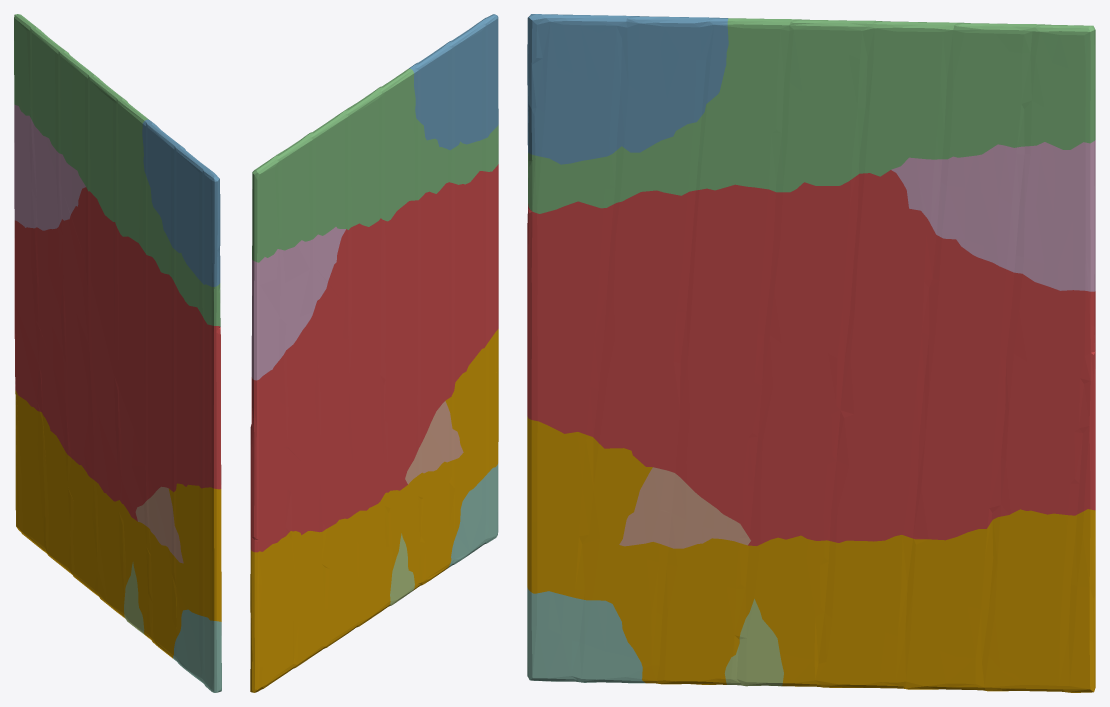
The model's file is fractured_66_8pcs.glb.
The picture shows the model from 3 angles, left to right: view 1: azimuth 30°, elevation 25°; view 2: azimuth 150°, elevation 25°; view 3: azimuth 270°, elevation 25°; orthographic projection. The views are drawn at different scales.
Parts seen in each view (by area): view 1: piece_1.obj, piece_0.obj, piece_3.obj, piece_2.obj, piece_6.obj, piece_4.obj, piece_7.obj, piece_5.obj; view 2: piece_1.obj, piece_0.obj, piece_3.obj, piece_2.obj, piece_6.obj, piece_4.obj, piece_7.obj, piece_5.obj; view 3: piece_1.obj, piece_0.obj, piece_3.obj, piece_2.obj, piece_6.obj, piece_4.obj, piece_7.obj, piece_5.obj.
Boxes of the visible parts, <box> form: piece_1.obj: <box>14,187,221,521</box>; piece_0.obj: <box>15,390,221,658</box>; piece_3.obj: <box>14,14,220,326</box>; piece_2.obj: <box>142,119,220,286</box>; piece_6.obj: <box>14,104,85,230</box>; piece_4.obj: <box>173,609,221,692</box>; piece_7.obj: <box>135,486,183,563</box>; piece_5.obj: <box>124,562,144,634</box>; piece_1.obj: <box>250,164,498,552</box>; piece_0.obj: <box>250,329,498,692</box>; piece_3.obj: <box>252,68,498,262</box>; piece_2.obj: <box>409,14,498,150</box>; piece_6.obj: <box>251,227,345,380</box>; piece_4.obj: <box>447,463,498,568</box>; piece_7.obj: <box>405,401,463,484</box>; piece_5.obj: <box>389,533,414,606</box>; piece_1.obj: <box>527,170,1095,545</box>; piece_0.obj: <box>527,416,1095,692</box>; piece_3.obj: <box>528,18,1095,213</box>; piece_2.obj: <box>527,14,728,164</box>; piece_6.obj: <box>891,140,1095,291</box>; piece_4.obj: <box>527,587,645,683</box>; piece_7.obj: <box>619,467,750,548</box>; piece_5.obj: <box>724,599,783,686</box>.
Size of the model in its own units: 0.0563 by 1 by 0.7737.
